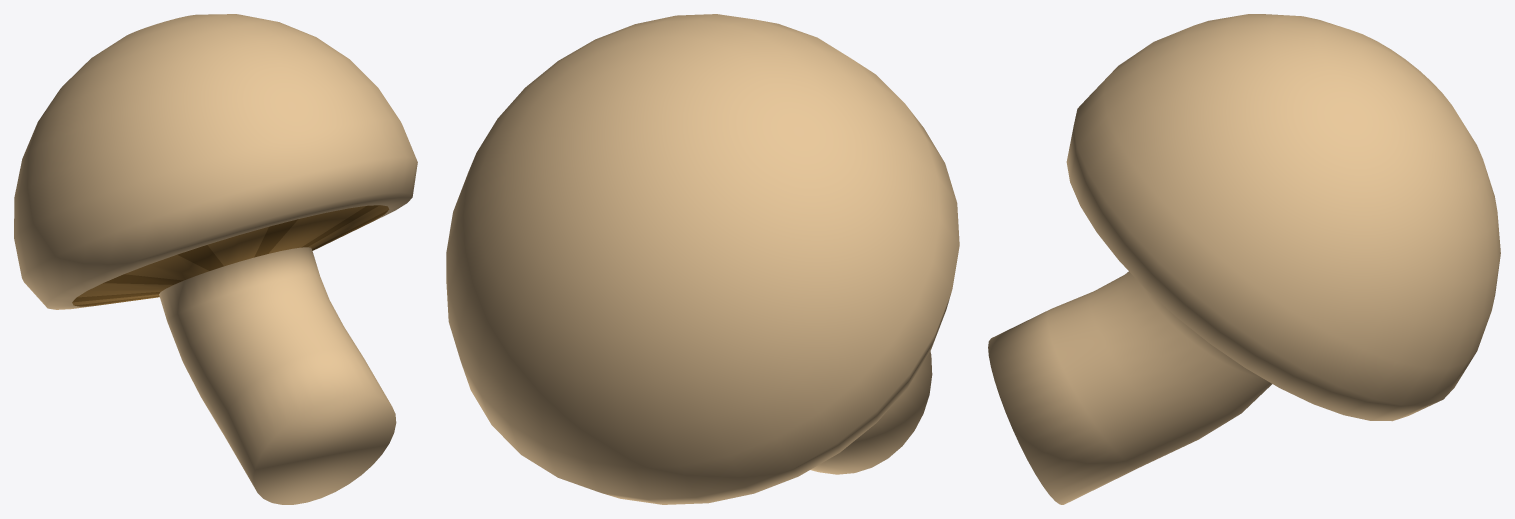
File: mushroom.fbx
The picture shows the model from 3 angles, left to right: view 1: azimuth 30°, elevation 25°; view 2: azimuth 150°, elevation 25°; view 3: azimuth 270°, elevation 25°; orthographic projection. The views are drawn at different scales.
Parts seen in each view (by area): view 1: Sphère.004; view 2: Sphère.004; view 3: Sphère.004.
Boxes of the visible parts, <box> form: Sphère.004: <box>14,14,417,504</box>; Sphère.004: <box>446,14,959,504</box>; Sphère.004: <box>988,14,1500,504</box>.
Size of the model in its own units: 200 by 216 by 218.
